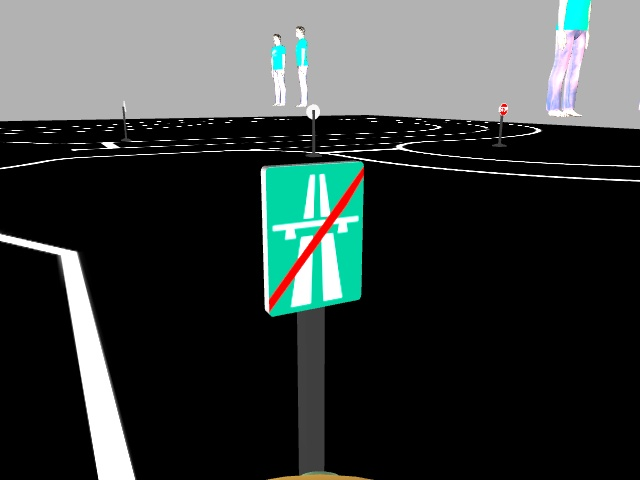HighwayExit: (260, 160, 363, 309)
